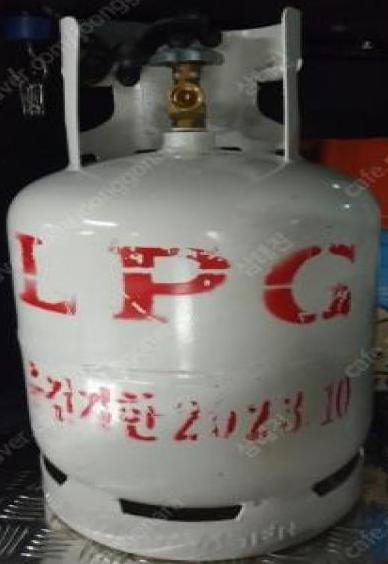cylinder: (0, 1, 388, 564)
